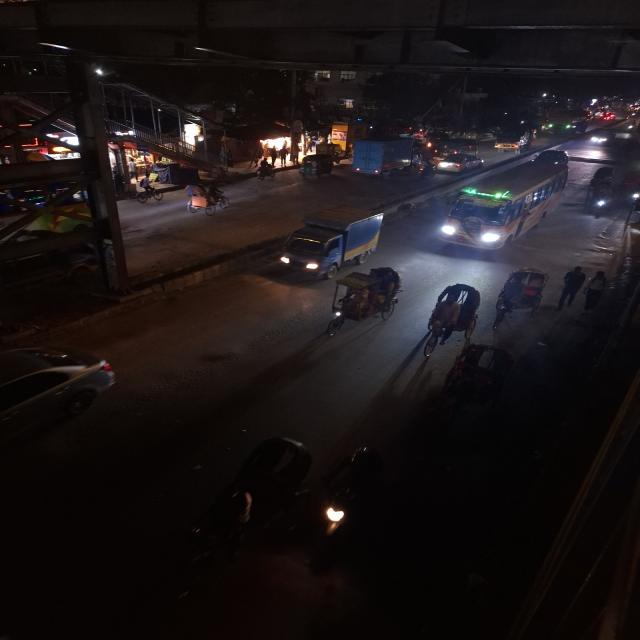bus: (437, 158, 571, 254)
car: (0, 342, 126, 444), (434, 152, 484, 174)
motorcycle: (309, 441, 386, 548)
pedestrian: (556, 263, 586, 308), (580, 268, 609, 314)
rickshaw: (437, 341, 514, 422), (322, 264, 404, 338), (419, 279, 482, 356), (492, 266, 551, 322), (580, 165, 617, 219), (180, 183, 232, 215), (295, 153, 340, 181)
truck: (273, 204, 390, 276), (349, 136, 424, 180), (492, 130, 530, 152), (436, 137, 482, 155)
